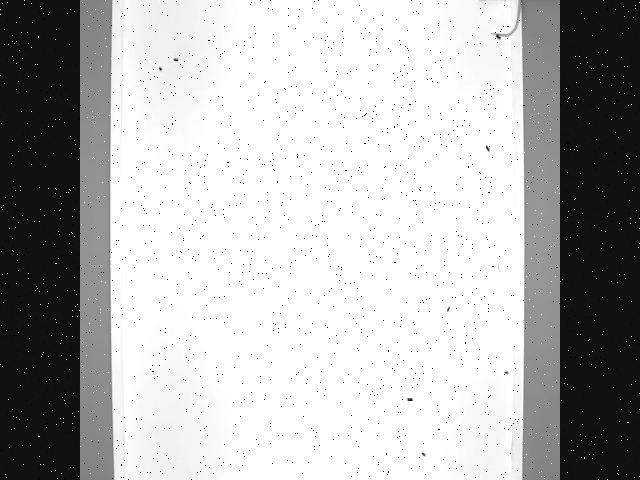Tikus: (470, 0, 523, 37)
